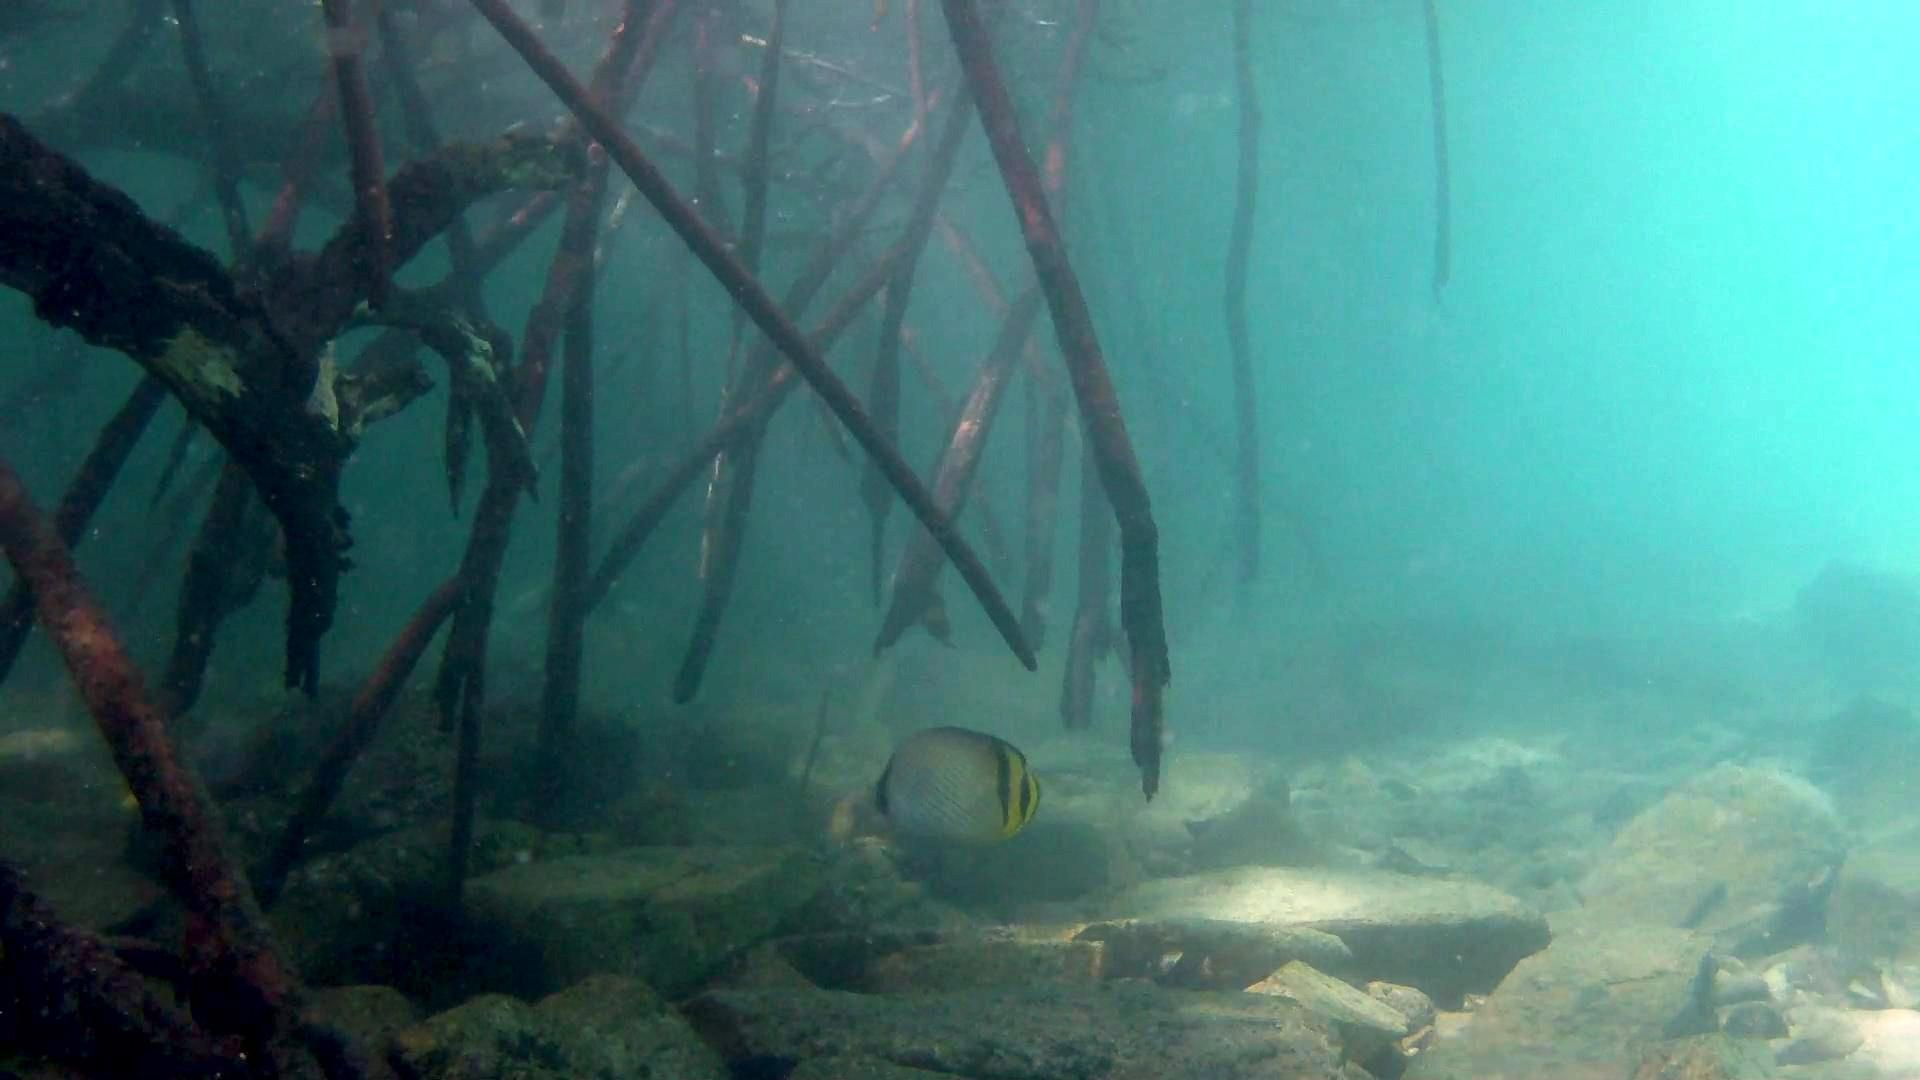chaetodon vagabundus: (856, 724, 1042, 844)
